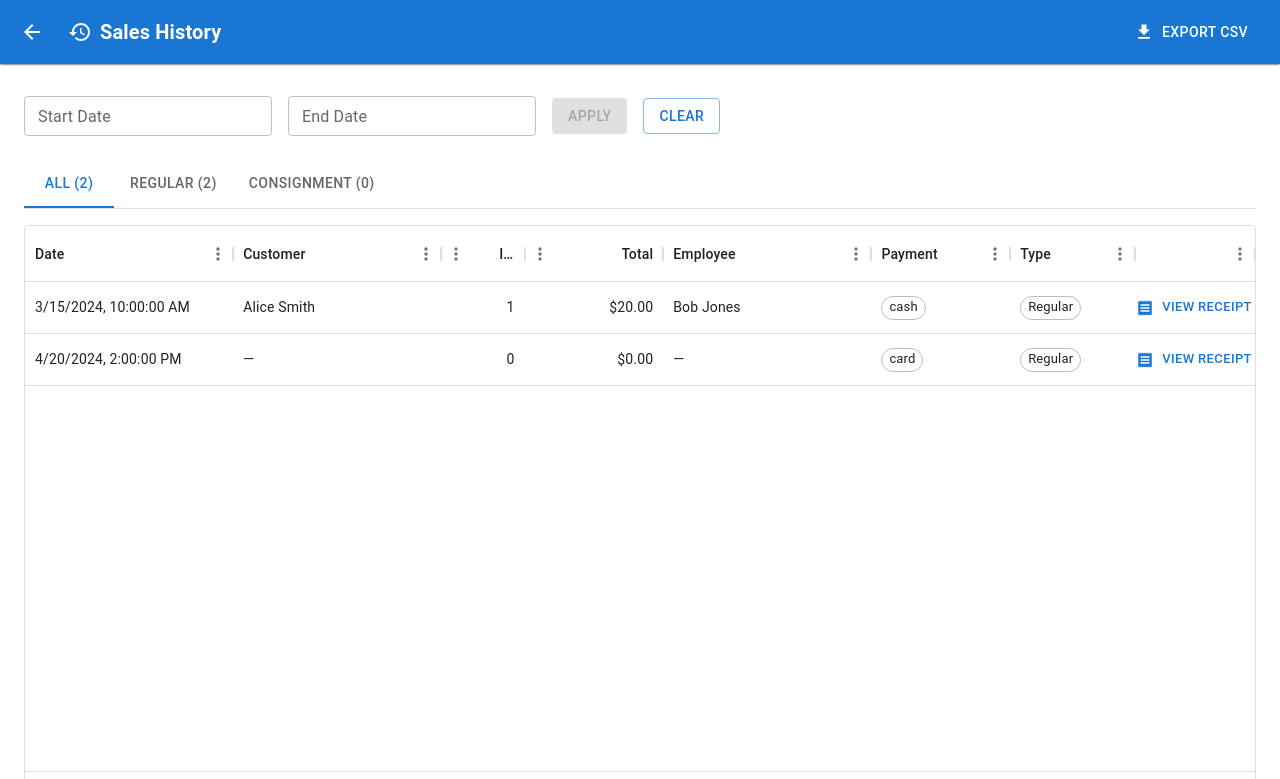
Test: SalesHistoryPage › Receipt Dialog › closes receipt dialog when Close is clicked
The image size is (1280, 779).
Click the row that starts with "3/15/2024, 10:00:00 AM": x=640, y=308 [25,282,1255,334]
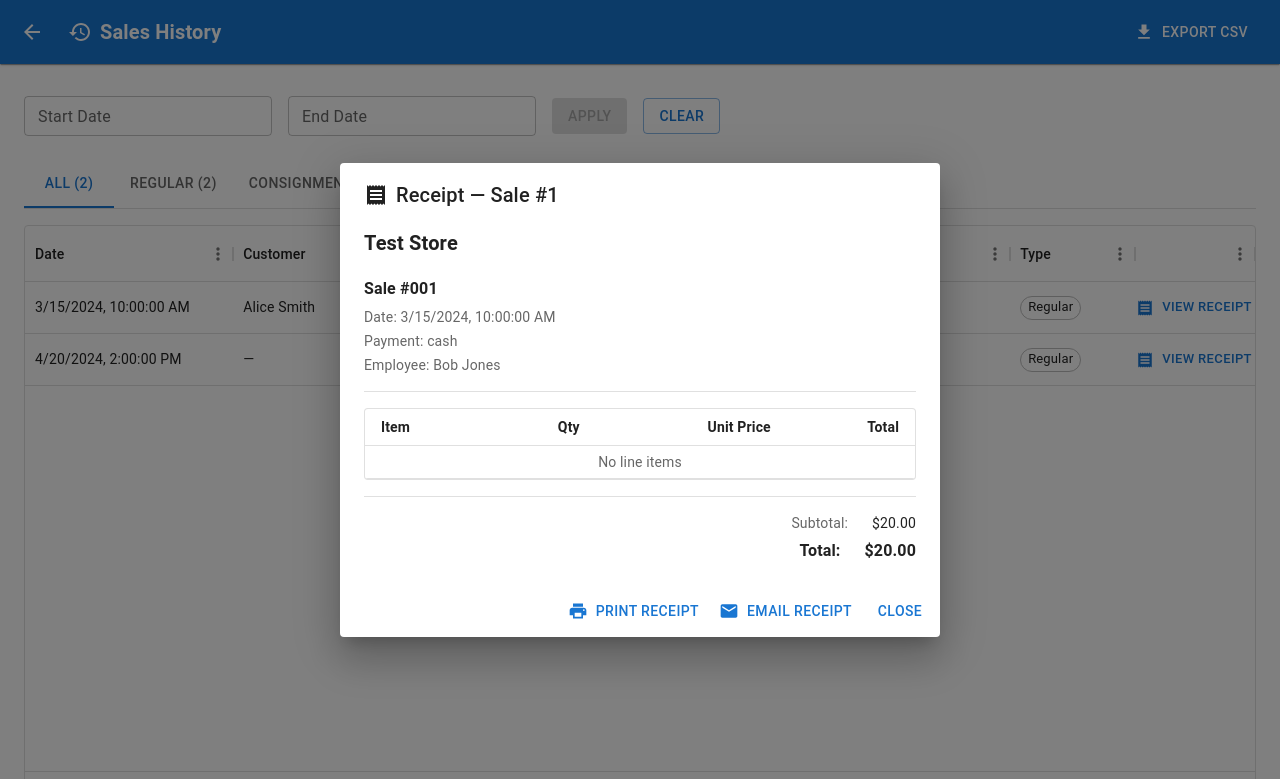
Now the dialog is shown, box [340,163,940,637]
Click the button "Close": x=900, y=611 [868,593,932,629]
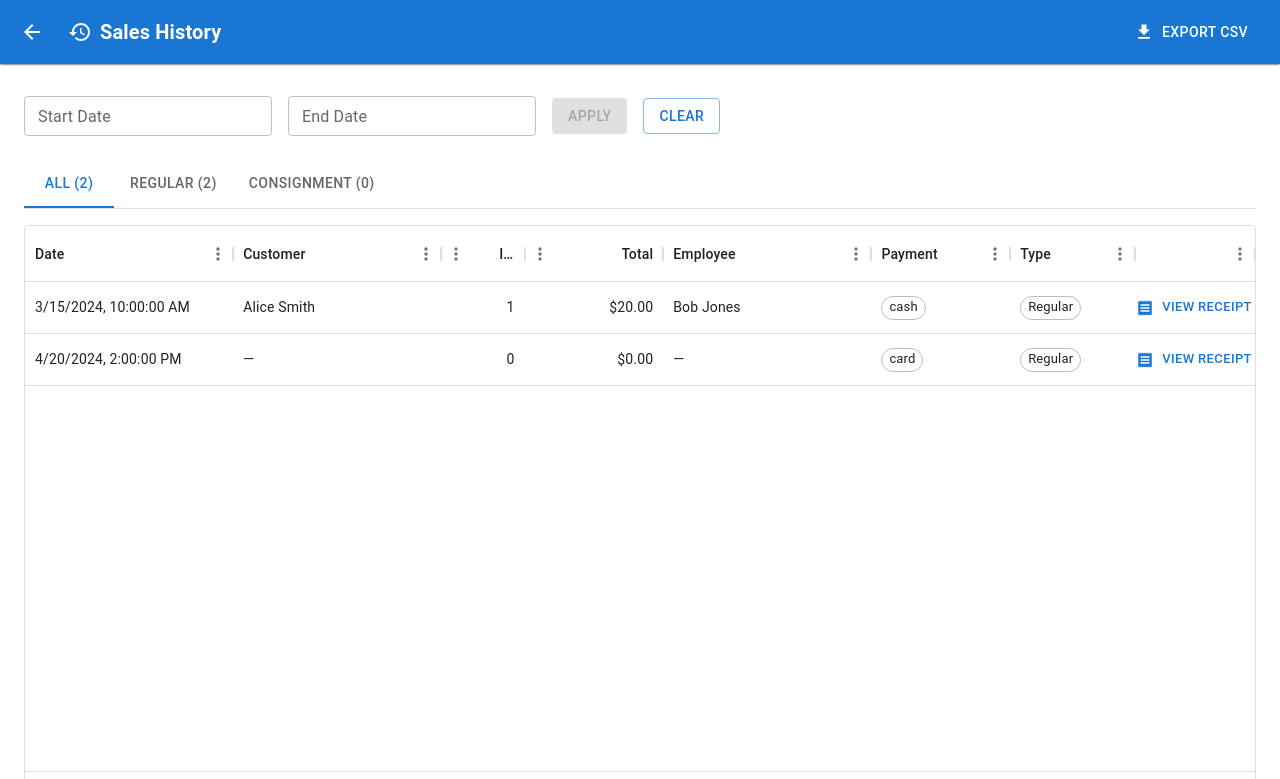
Now the dialog is gone
